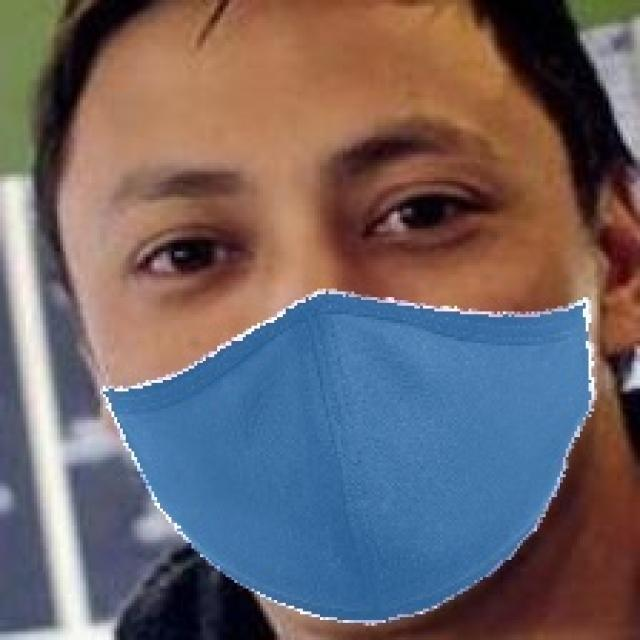mask: (90, 274, 610, 635)
